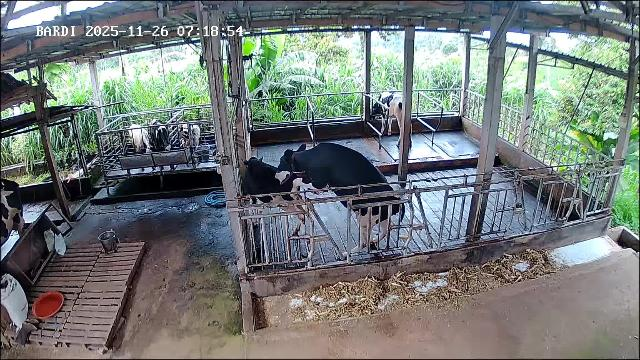mounting: (276, 142, 404, 256)
